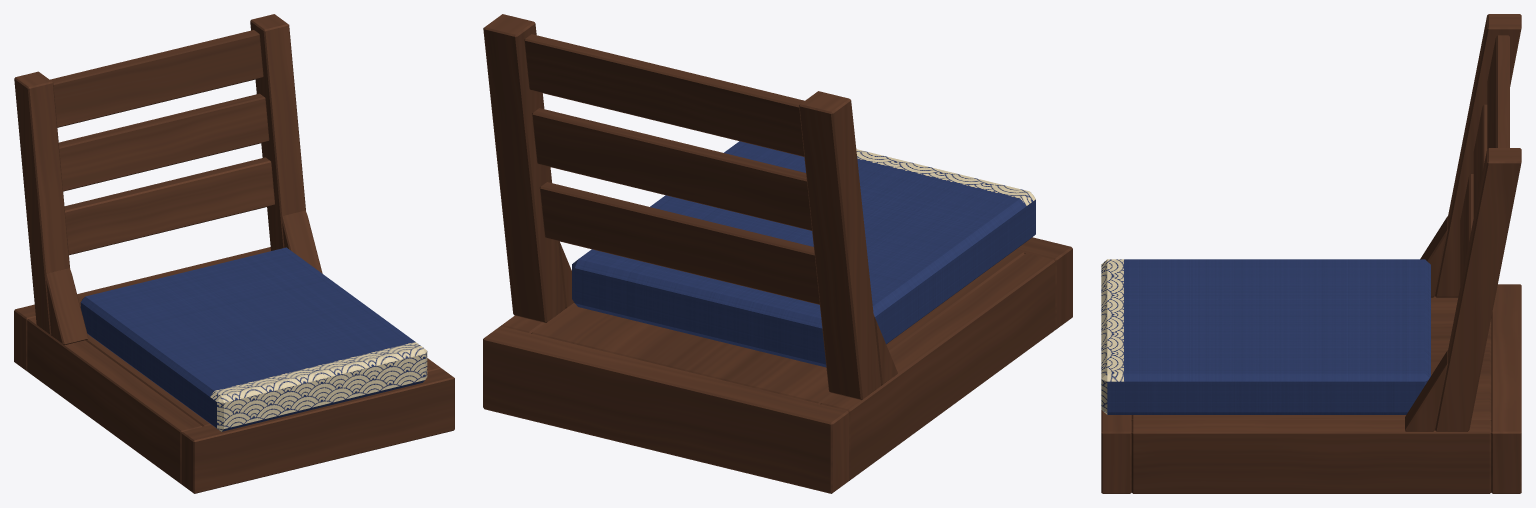
The model's file is 04_Zaisu.fbx.
The picture shows the model from 3 angles, left to right: view 1: azimuth 30°, elevation 25°; view 2: azimuth 150°, elevation 25°; view 3: azimuth 270°, elevation 25°; orthographic projection. The views are drawn at different scales.
Visible parts, largest first — view 1: SM_04_Zaisu; view 2: SM_04_Zaisu; view 3: SM_04_Zaisu.
Part boxes in pixels (bbox=[...]): SM_04_Zaisu: bbox=[14, 14, 454, 493]; SM_04_Zaisu: bbox=[483, 14, 1072, 493]; SM_04_Zaisu: bbox=[1101, 14, 1521, 493].
Bounding box in the file's own units: 0.46 × 0.48 × 0.55.
